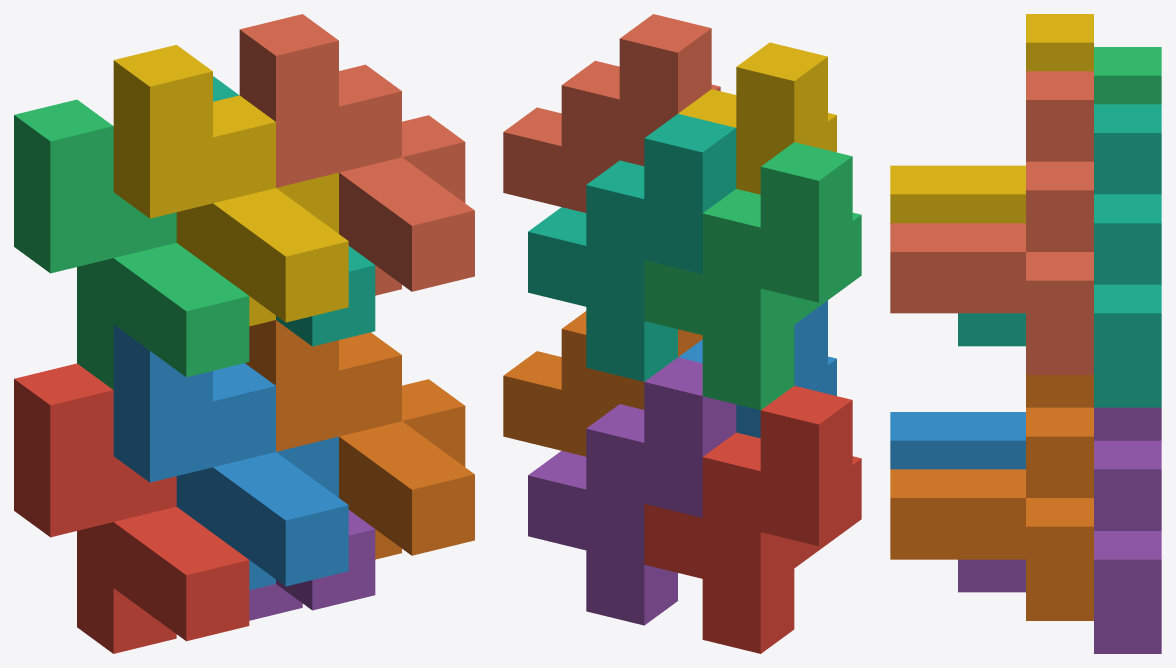
The model's file is tiling.obj.
The picture shows the model from 3 angles, left to right: view 1: azimuth 30°, elevation 25°; view 2: azimuth 150°, elevation 25°; view 3: azimuth 270°, elevation 25°; orthographic projection. The views are drawn at different scales.
Parts seen in each view (by area): view 1: copy_1_domain_4, copy_1_domain_1, copy_1_domain_8, copy_1_domain_3, copy_1_domain_2, copy_1_domain_6, copy_1_domain_5, copy_1_domain_7; view 2: copy_1_domain_1, copy_1_domain_3, copy_1_domain_7, copy_1_domain_5, copy_1_domain_8, copy_1_domain_4, copy_1_domain_6, copy_1_domain_2; view 3: copy_1_domain_8, copy_1_domain_6, copy_1_domain_7, copy_1_domain_5, copy_1_domain_4, copy_1_domain_2, copy_1_domain_3.
Part boxes in pixels (bbox=[...]): copy_1_domain_4: bbox=[113, 45, 348, 326]; copy_1_domain_1: bbox=[14, 363, 249, 653]; copy_1_domain_8: bbox=[239, 14, 474, 295]; copy_1_domain_3: bbox=[14, 99, 249, 389]; copy_1_domain_2: bbox=[113, 324, 348, 590]; copy_1_domain_6: bbox=[245, 320, 474, 559]; copy_1_domain_5: bbox=[249, 510, 375, 620]; copy_1_domain_7: bbox=[213, 76, 375, 346]; copy_1_domain_1: bbox=[644, 386, 861, 653]; copy_1_domain_3: bbox=[644, 142, 861, 410]; copy_1_domain_7: bbox=[528, 113, 736, 381]; copy_1_domain_5: bbox=[528, 357, 736, 625]; copy_1_domain_8: bbox=[503, 14, 720, 212]; copy_1_domain_4: bbox=[678, 42, 836, 194]; copy_1_domain_6: bbox=[503, 311, 702, 456]; copy_1_domain_2: bbox=[678, 300, 836, 438]; copy_1_domain_8: bbox=[890, 71, 1093, 374]; copy_1_domain_6: bbox=[890, 375, 1093, 620]; copy_1_domain_7: bbox=[958, 104, 1161, 407]; copy_1_domain_5: bbox=[958, 407, 1161, 653]; copy_1_domain_4: bbox=[890, 14, 1093, 223]; copy_1_domain_2: bbox=[890, 412, 1025, 469]; copy_1_domain_3: bbox=[1094, 47, 1161, 104].
Size of the model in its own units: 6 by 9 by 4.
